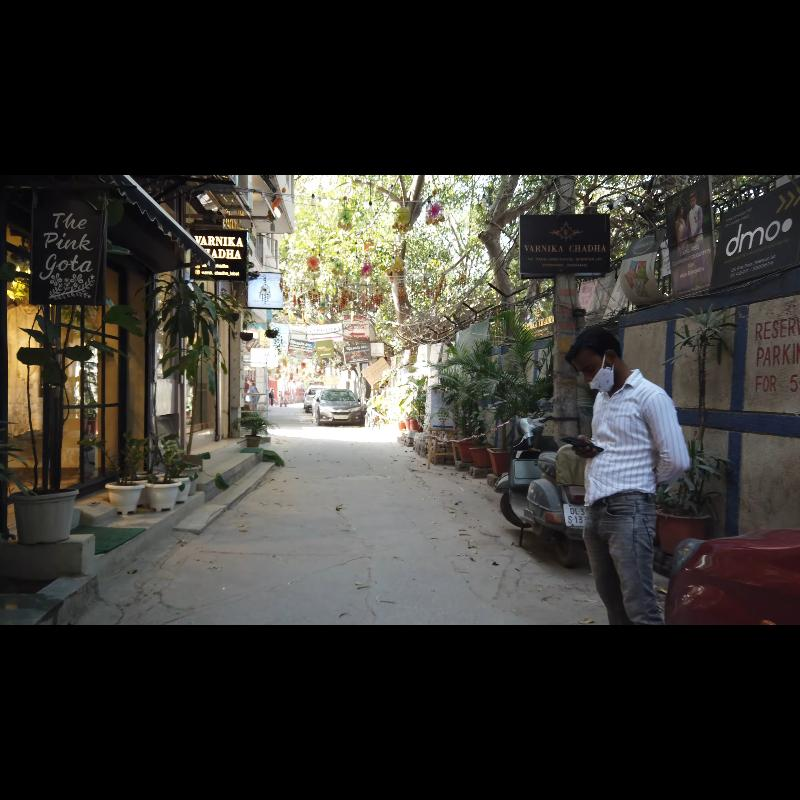Jeans: (580, 491, 664, 624)
Shirt: (583, 372, 690, 504)
